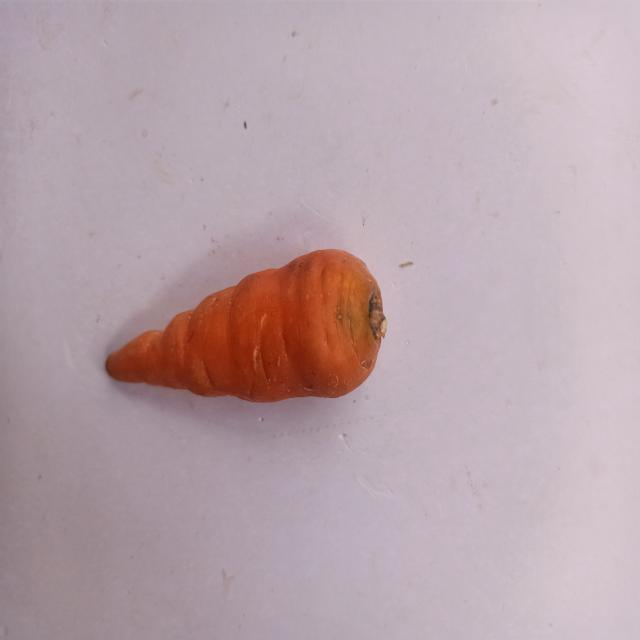Carrot: (98, 225, 395, 484)
